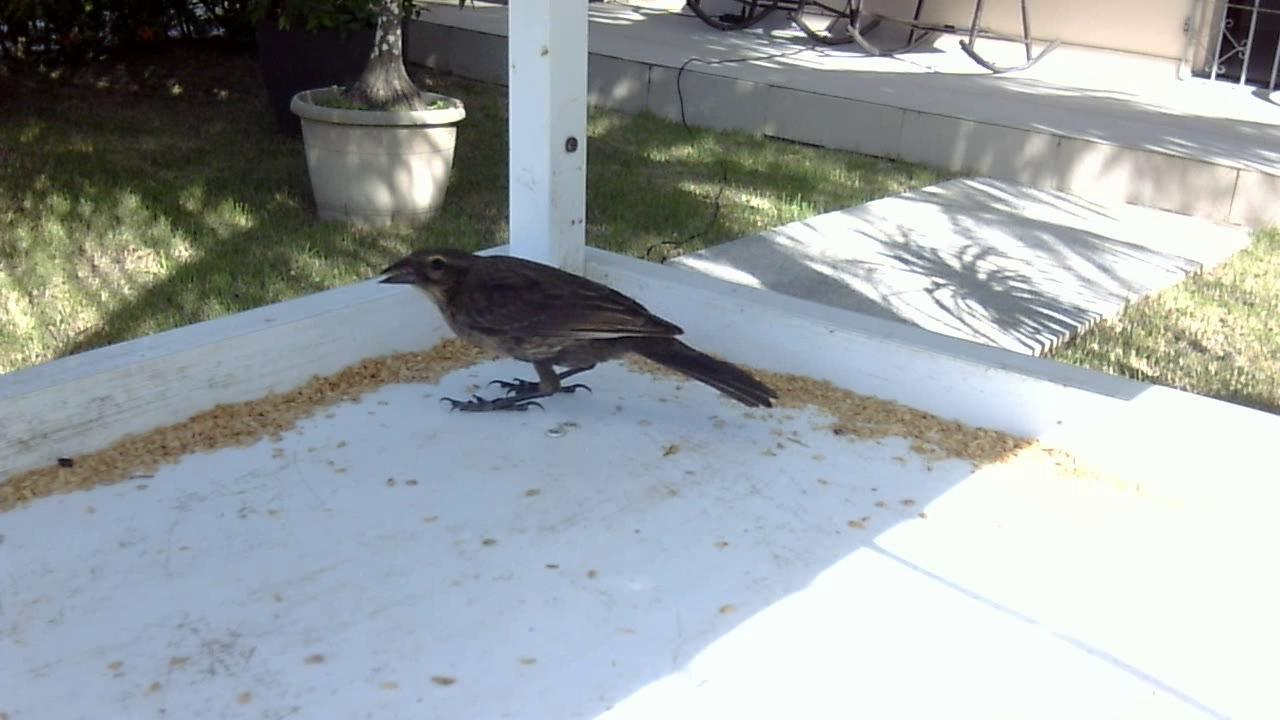chupim: (375, 239, 791, 423)
